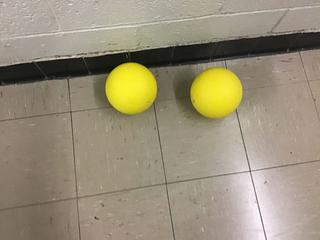power_cell: (189, 62, 244, 123), (101, 60, 159, 116)
